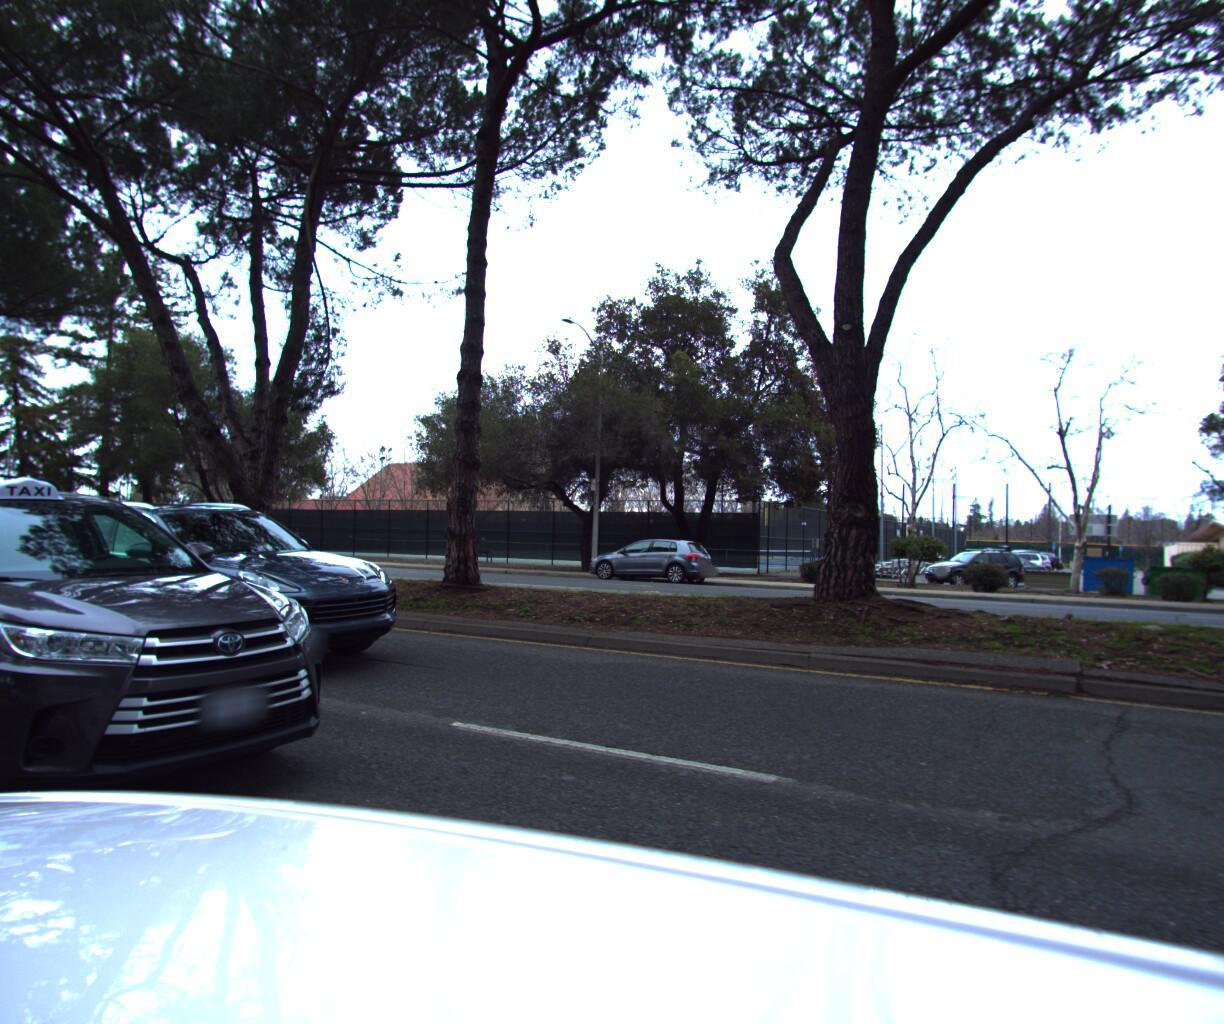car: (0, 437, 374, 896), (10, 496, 423, 699), (582, 545, 722, 594)
